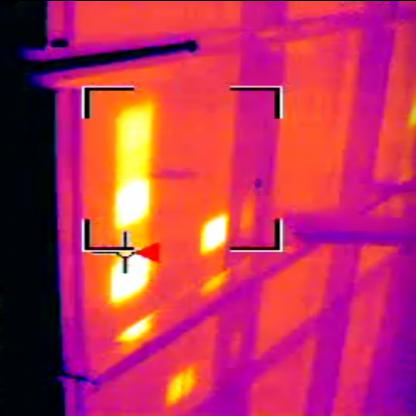Defects: (116, 177, 154, 223), (112, 258, 152, 296), (200, 214, 234, 251)
